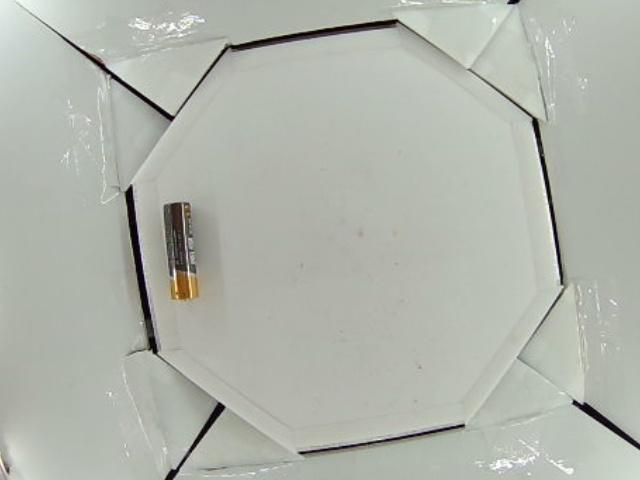Battery: (158, 200, 199, 305)
